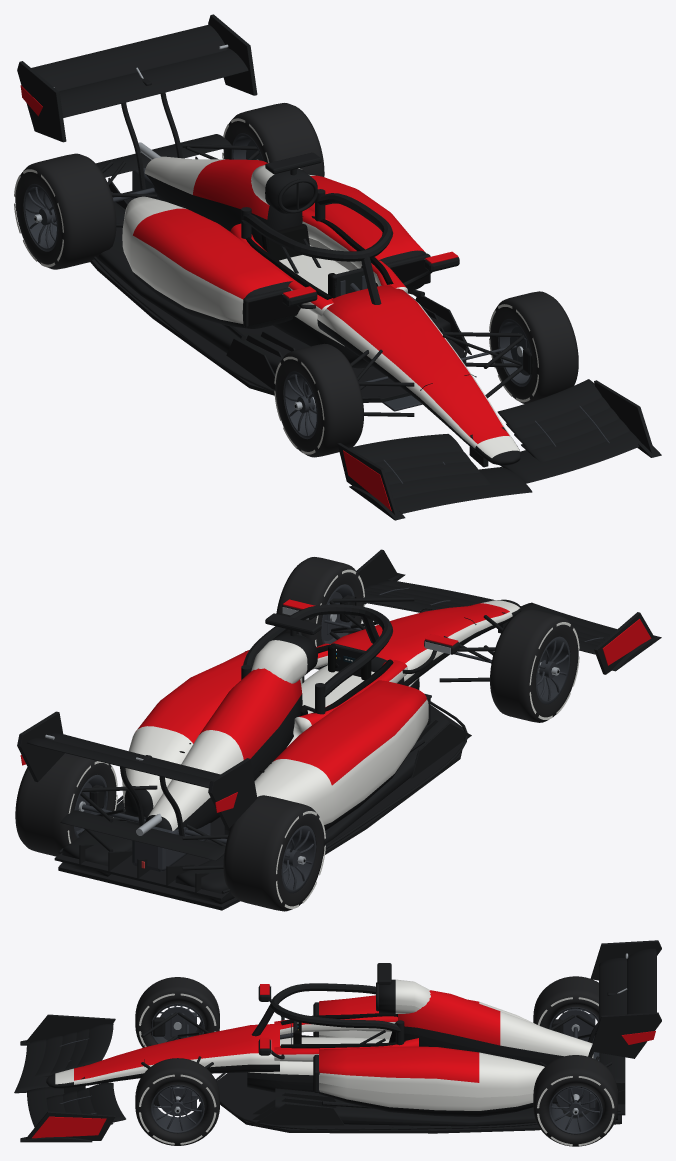
The model's file is f1-car.glb.
The picture shows the model from 3 angles, top to bottom: view 1: azimuth 30°, elevation 25°; view 2: azimuth 150°, elevation 25°; view 3: azimuth 270°, elevation 25°; orthographic projection. The views are drawn at different scales.
Visible parts, largest first — view 1: sidepods (×2), nose_cone, front_tires (×2), front_wing_flaps (×8), rear_tires (×2), engine_cover, drs_flap_airfoil, front_wing_mainplane (×2), rear_wing_mainplane, underfloor_venturi_tunnels, rear_wing_endplates (×2), floor_tray (+12 smaller); view 2: sidepods (×2), rear_tires (×2), engine_cover, front_tires (×2), nose_cone, underfloor_venturi_tunnels (×2), floor_tray, rear_wing_endplates (×2), halo_structure, rear_beam_wing, wheel_rims (×2), airbox_shell (+14 smaller); view 3: sidepods (×2), engine_cover, front_tires (×2), nose_cone, rear_tires (×2), front_wing_flaps (×6), floor_tray, underfloor_venturi_tunnels, rear_wing_endplates (×2), wheel_rims (×3), floor_fences (×3), survival_cell (+15 smaller).
Part boxes in pixels (left/top/right/bottom): sidepods (×2): left=122, top=175, right=426, bottom=328; nose_cone: left=317, top=285, right=521, bottom=465; front_tires (×2): left=275, top=291, right=578, bottom=457; front_wing_flaps (×8): left=349, top=379, right=629, bottom=498; rear_tires (×2): left=15, top=103, right=324, bottom=269; engine_cover: left=144, top=156, right=302, bottom=247; drs_flap_airfoil: left=31, top=24, right=227, bottom=91; front_wing_mainplane (×2): left=393, top=431, right=640, bottom=513; rear_wing_mainplane: left=59, top=48, right=248, bottom=117; underfloor_venturi_tunnels: left=97, top=202, right=310, bottom=374; rear_wing_endplates (×2): left=17, top=14, right=257, bottom=142; floor_tray: left=90, top=259, right=466, bottom=402; sidepods (×2): left=122, top=650, right=428, bottom=838; rear_tires (×2): left=15, top=753, right=324, bottom=911; engine_cover: left=145, top=668, right=302, bottom=831; front_tires (×2): left=276, top=557, right=578, bottom=722; nose_cone: left=318, top=599, right=521, bottom=685; underfloor_venturi_tunnels (×2): left=62, top=714, right=449, bottom=904; floor_tray: left=58, top=705, right=463, bottom=910; rear_wing_endplates (×2): left=17, top=711, right=257, bottom=828; halo_structure: left=243, top=604, right=392, bottom=696; rear_beam_wing: left=60, top=810, right=225, bottom=860; wheel_rims (×2): left=281, top=636, right=570, bottom=893; airbox_shell: left=251, top=633, right=317, bottom=683; sidepods (×2): left=319, top=995, right=544, bottom=1116; engine_cover: left=398, top=990, right=593, bottom=1065; front_tires (×2): left=135, top=977, right=219, bottom=1145; nose_cone: left=46, top=1024, right=279, bottom=1088; rear_tires (×2): left=533, top=976, right=617, bottom=1146; front_wing_flaps (×6): left=34, top=1024, right=125, bottom=1124; floor_tray: left=216, top=1072, right=621, bottom=1133; underfloor_venturi_tunnels: left=275, top=1088, right=617, bottom=1126; rear_wing_endplates (×2): left=590, top=940, right=661, bottom=1058; wheel_rims (×3): left=150, top=1003, right=602, bottom=1134; floor_fences (×3): left=251, top=1092, right=344, bottom=1125; survival_cell: left=247, top=1037, right=389, bottom=1092.
Bounding box in the file's own units: 2.05 × 1.2 × 5.5.
